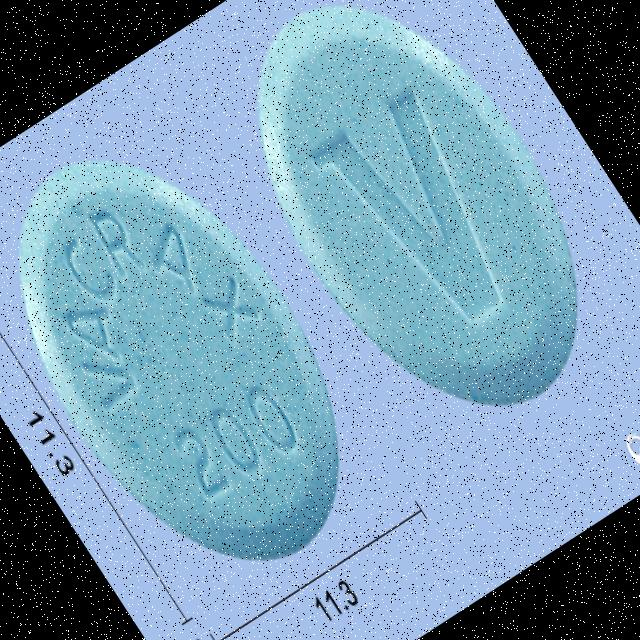Vacrax Tab: (0, 101, 404, 614), (190, 0, 640, 459)
